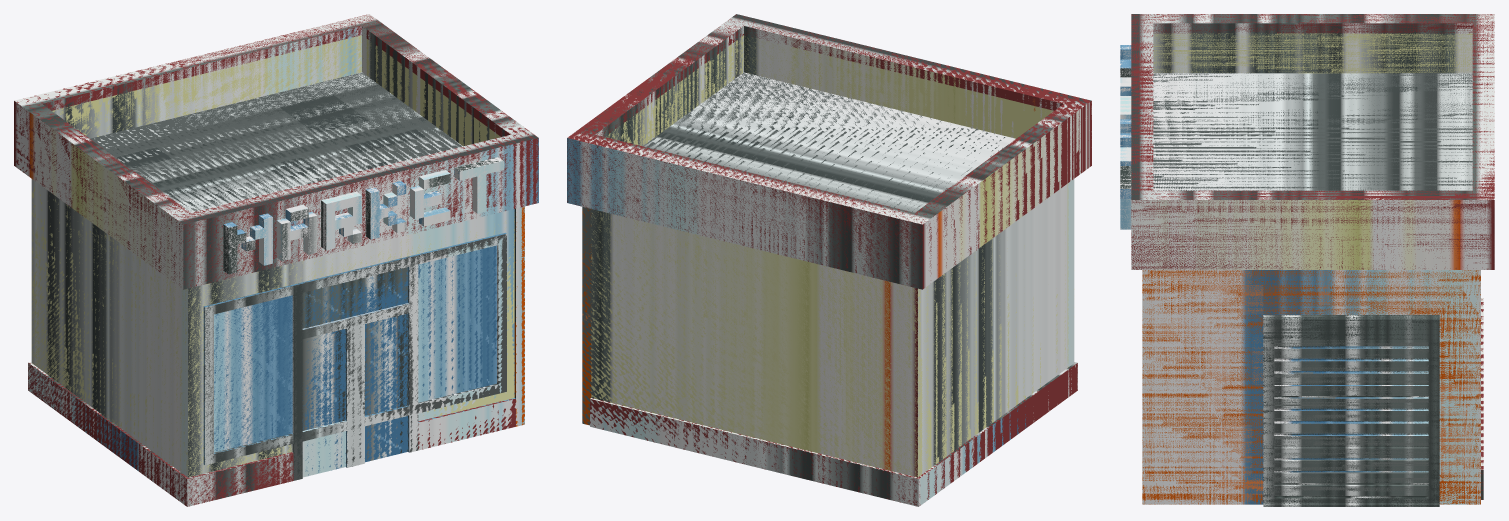
Rendered from market.fbx.
3 views of the same model, side by side, from view 1: azimuth 30°, elevation 25°; view 2: azimuth 150°, elevation 25°; view 3: azimuth 270°, elevation 25° (orthographic). The views are drawn at different scales.
Parts seen in each view (by area): view 1: market_2, market_2_Backup; view 2: market_2, market_2_Backup; view 3: market_2, market_2_Backup.
Boxes of the visible parts, x1=… form: market_2: x1=14, y1=14, x2=538, y2=506; market_2_Backup: x1=14, y1=14, x2=538, y2=506; market_2: x1=567, y1=14, x2=1091, y2=506; market_2_Backup: x1=567, y1=14, x2=1091, y2=506; market_2: x1=1120, y1=14, x2=1494, y2=506; market_2_Backup: x1=1120, y1=14, x2=1494, y2=506.
Size of the model in its own units: 1600 by 1240 by 1360.
